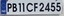character: (25, 2, 33, 13), (55, 2, 62, 12), (44, 1, 50, 12), (50, 1, 55, 12), (7, 2, 12, 12), (12, 2, 17, 12), (33, 2, 38, 12), (39, 2, 44, 12), (18, 2, 22, 13), (21, 2, 25, 13)
